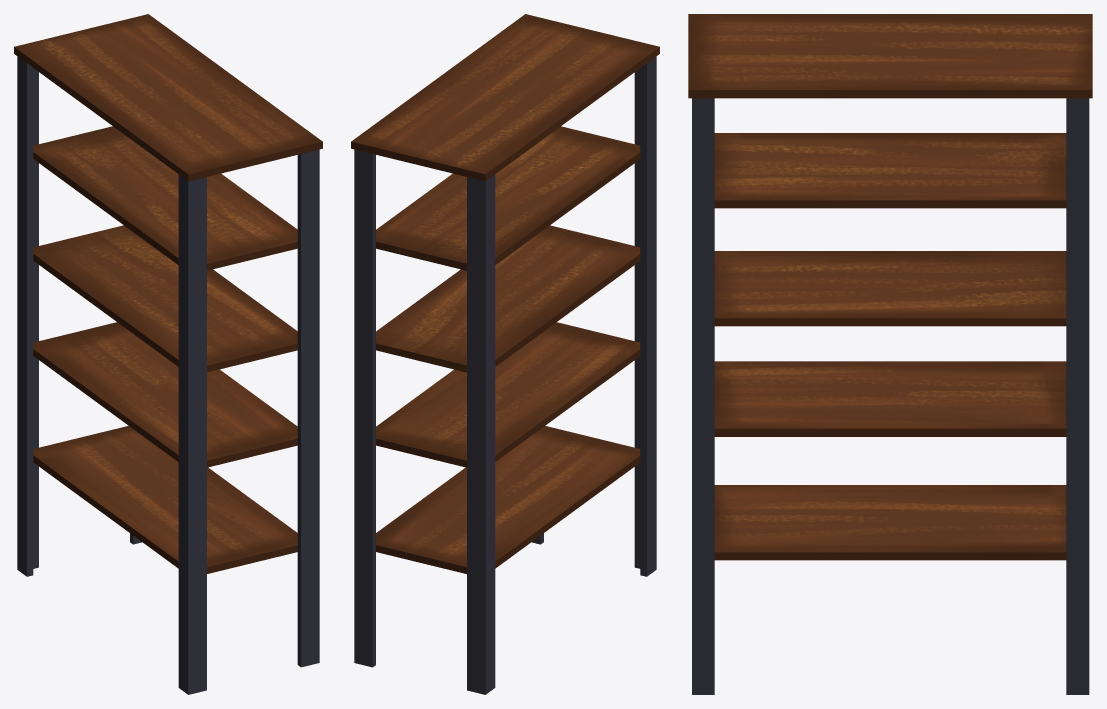
File: IronChest.FBX
The picture shows the model from 3 angles, left to right: view 1: azimuth 30°, elevation 25°; view 2: azimuth 150°, elevation 25°; view 3: azimuth 270°, elevation 25°; orthographic projection. The views are drawn at different scales.
Parts seen in each view (by area): view 1: IronChest005; view 2: IronChest005; view 3: IronChest005.
Boxes of the visible parts, <box> form: IronChest005: <box>14,14,322,694</box>; IronChest005: <box>351,14,659,694</box>; IronChest005: <box>688,14,1092,694</box>.
Size of the model in its own units: 67.08 by 249 by 151.
1 material, 1 textured.
